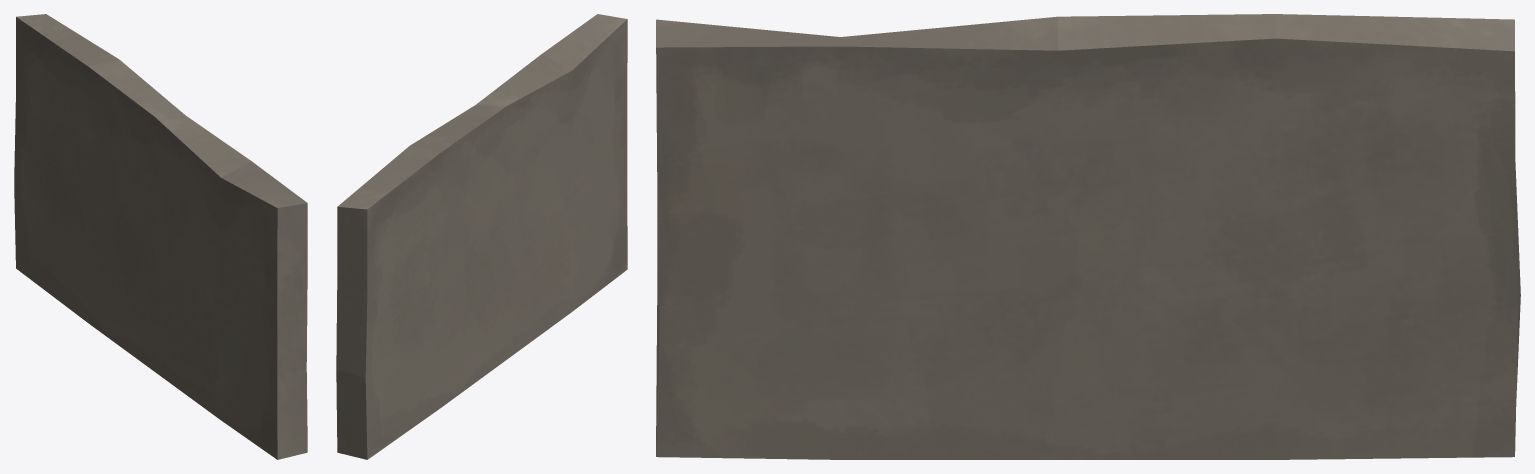
File: Wall-section-2.fbx
3 renders of one model, left to right at view 1: azimuth 30°, elevation 25°; view 2: azimuth 150°, elevation 25°; view 3: azimuth 270°, elevation 25°, orthographic. The views are drawn at different scales.
Parts seen in each view (by area): view 1: Cube.066; view 2: Cube.066; view 3: Cube.066.
Boxes of the visible parts, x1,y1,x2,y2 form: Cube.066: [14, 14, 307, 459]; Cube.066: [336, 14, 627, 459]; Cube.066: [656, 14, 1520, 459].
Size of the model in its own units: 26.5 by 211 by 393.
